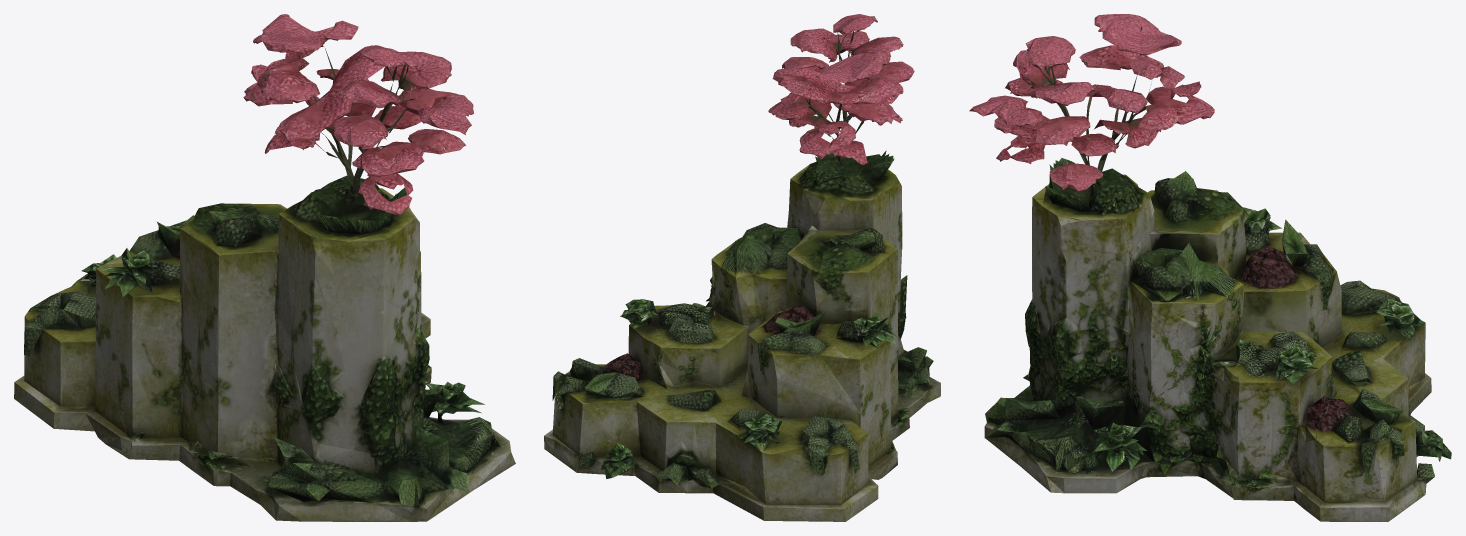
The model's file is terraced-concrete-planter-3d-model.glb.
3 views of the same model, side by side, from view 1: azimuth 30°, elevation 25°; view 2: azimuth 150°, elevation 25°; view 3: azimuth 270°, elevation 25° (orthographic). The views are drawn at different scales.
Visible parts, largest first — view 1: tripo_node_c3e0cfbf-47a0-4543-a4dc-c50d67a60a48; view 2: tripo_node_c3e0cfbf-47a0-4543-a4dc-c50d67a60a48; view 3: tripo_node_c3e0cfbf-47a0-4543-a4dc-c50d67a60a48.
Boxes of the visible parts, x1=… form: tripo_node_c3e0cfbf-47a0-4543-a4dc-c50d67a60a48: x1=14, y1=14, x2=515, y2=521; tripo_node_c3e0cfbf-47a0-4543-a4dc-c50d67a60a48: x1=544, y1=14, x2=940, y2=521; tripo_node_c3e0cfbf-47a0-4543-a4dc-c50d67a60a48: x1=969, y1=14, x2=1451, y2=521.
Bounding box in the file's own units: 0.7772 × 0.8766 × 0.9684.
Materials: 1 (1 with a texture image).
